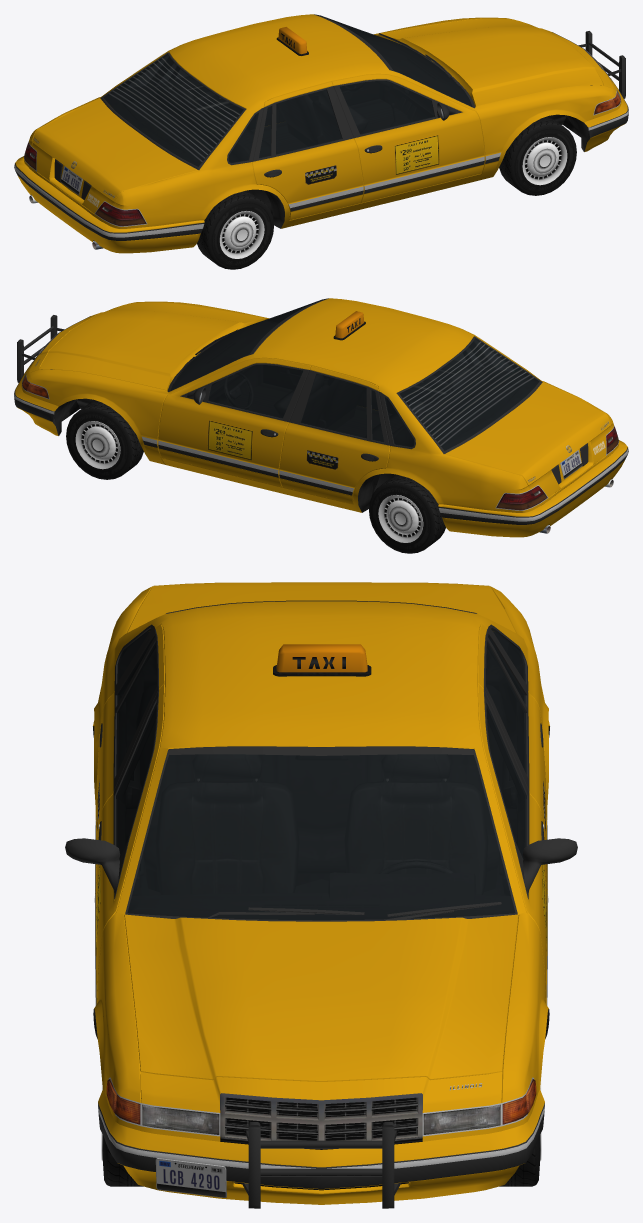
Rendered from swift_cab.glb.
3 views of the same model, one above another, from view 1: azimuth 30°, elevation 25°; view 2: azimuth 150°, elevation 25°; view 3: azimuth 270°, elevation 25° (orthographic). The views are drawn at different scales.
Parts seen in each view (by area): view 1: Illinois90_Body_Illinois90_Bodymat_0, Illinois90_Interior_UCB_Interiors_2_0, Illinois90_Hood_Illinois90_Bodymat_0, Illinois90_Trunkdoor_Illinois90_Bodymat_0, Illinois90_Bottom_UCB_BOTTOM_0, Illinois90_Rear_Glass_UCB_Lights_and_Glass_Transperent_0, Illinois90_Body_Glass_UCB_Lights_and_Glass_Transperent_0, Illinois90_WheelHubcap_RR_RB1c_Tire_1k_0, Illinois90_WheelHubcap_FR_RB1c_Tire_1k_0, Illinois90_Glass_Passenger_UCB_Lights_and_Glass_Transperent_, Illinois90_Bumper_rear_Illinois90_Bodymat_0, Illinois90_Windshield_UCB_Lights_and_Glass_Transperent_0 (+9 smaller); view 2: Illinois90_Body_Illinois90_Bodymat_0, Illinois90_Interior_UCB_Interiors_2_0, Illinois90_Hood_Illinois90_Bodymat_0, Illinois90_Trunkdoor_Illinois90_Bodymat_0, Illinois90_Bottom_UCB_BOTTOM_0, Illinois90_Rear_Glass_UCB_Lights_and_Glass_Transperent_0, Illinois90_Body_Glass_UCB_Lights_and_Glass_Transperent_0, Illinois90_WheelHubcap_RL_RB1c_Tire_1k_0, Illinois90_WheelHubcap_FL_RB1c_Tire_1k_0, Illinois90_glass_Driver_UCB_Lights_and_Glass_Transperent_0, Illinois90_Bumper_rear_Illinois90_Bodymat_0, Illinois90_Windshield_UCB_Lights_and_Glass_Transperent_0 (+9 smaller); view 3: Illinois90_Body_Illinois90_Bodymat_0, Illinois90_Interior_UCB_Interiors_2_0, Illinois90_Hood_Illinois90_Bodymat_0, Illinois90_Windshield_UCB_Lights_and_Glass_Transperent_0, Illinois90_Bottom_UCB_BOTTOM_0, Illinois90_Bumper_front_Illinois90_Bodymat_0, Illinois90_Trunkdoor_Illinois90_Bodymat_0, Illinois90_Bumper_front_inner_UCB_BOTTOM_0, Illinois90_Body_Glass_UCB_Lights_and_Glass_Transperent_0, Illinois90_Headlights_Glass_UCB_Lights_and_Glass_Transperent, Illinois90_Bullbar_UCB_BOTTOM_0, Illinois90_Headlights_UCB_Lights_and_Glass_0 (+7 smaller).
Boxes of the visible parts, <box> form: Illinois90_Body_Illinois90_Bodymat_0: <box>24,14,621,228</box>; Illinois90_Interior_UCB_Interiors_2_0: <box>104,19,471,201</box>; Illinois90_Hood_Illinois90_Bodymat_0: <box>377,18,603,106</box>; Illinois90_Trunkdoor_Illinois90_Bodymat_0: <box>32,98,198,213</box>; Illinois90_Bottom_UCB_BOTTOM_0: <box>24,14,620,249</box>; Illinois90_Rear_Glass_UCB_Lights_and_Glass_Transperent_0: <box>103,54,243,166</box>; Illinois90_Body_Glass_UCB_Lights_and_Glass_Transperent_0: <box>129,56,341,163</box>; Illinois90_WheelHubcap_RR_RB1c_Tire_1k_0: <box>197,191,273,269</box>; Illinois90_WheelHubcap_FR_RB1c_Tire_1k_0: <box>499,116,576,195</box>; Illinois90_Glass_Passenger_UCB_Lights_and_Glass_Transperent_: <box>340,81,434,134</box>; Illinois90_Bumper_rear_Illinois90_Bodymat_0: <box>15,156,204,253</box>; Illinois90_Windshield_UCB_Lights_and_Glass_Transperent_0: <box>318,15,472,106</box>; Illinois90_Body_Illinois90_Bodymat_0: <box>21,298,618,512</box>; Illinois90_Interior_UCB_Interiors_2_0: <box>171,303,538,496</box>; Illinois90_Hood_Illinois90_Bodymat_0: <box>39,302,265,390</box>; Illinois90_Trunkdoor_Illinois90_Bodymat_0: <box>444,382,610,497</box>; Illinois90_Bottom_UCB_BOTTOM_0: <box>22,298,618,533</box>; Illinois90_Rear_Glass_UCB_Lights_and_Glass_Transperent_0: <box>399,338,539,450</box>; Illinois90_Body_Glass_UCB_Lights_and_Glass_Transperent_0: <box>301,340,513,447</box>; Illinois90_WheelHubcap_RL_RB1c_Tire_1k_0: <box>369,475,445,553</box>; Illinois90_WheelHubcap_FL_RB1c_Tire_1k_0: <box>66,400,143,479</box>; Illinois90_glass_Driver_UCB_Lights_and_Glass_Transperent_0: <box>208,365,302,418</box>; Illinois90_Bumper_rear_Illinois90_Bodymat_0: <box>438,440,627,537</box>; Illinois90_Windshield_UCB_Lights_and_Glass_Transperent_0: <box>170,299,324,390</box>; Illinois90_Body_Illinois90_Bodymat_0: <box>94,586,548,1141</box>; Illinois90_Interior_UCB_Interiors_2_0: <box>118,632,524,919</box>; Illinois90_Hood_Illinois90_Bodymat_0: <box>124,914,518,1081</box>; Illinois90_Windshield_UCB_Lights_and_Glass_Transperent_0: <box>127,754,515,920</box>; Illinois90_Bottom_UCB_BOTTOM_0: <box>65,600,577,1149</box>; Illinois90_Bumper_front_Illinois90_Bodymat_0: <box>98,1089,544,1204</box>; Illinois90_Trunkdoor_Illinois90_Bodymat_0: <box>127,582,515,632</box>; Illinois90_Bumper_front_inner_UCB_BOTTOM_0: <box>98,1103,544,1190</box>; Illinois90_Body_Glass_UCB_Lights_and_Glass_Transperent_0: <box>116,628,526,774</box>; Illinois90_Headlights_Glass_UCB_Lights_and_Glass_Transperent: <box>106,1079,536,1134</box>; Illinois90_Bullbar_UCB_BOTTOM_0: <box>241,1122,401,1208</box>; Illinois90_Headlights_UCB_Lights_and_Glass_0: <box>143,1105,499,1134</box>.
Bounding box in the file's own units: 5.21 × 1.53 × 2.09.
Materials: 8 (8 with a texture image).
